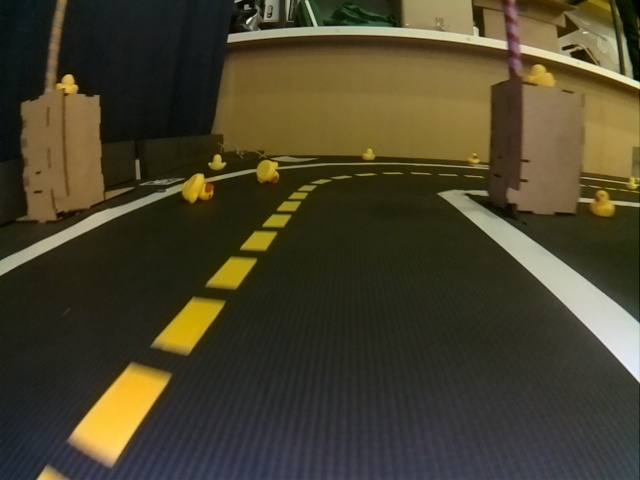Duckie: (183, 174, 213, 201), (527, 64, 554, 86), (591, 191, 614, 216), (257, 160, 279, 180), (57, 77, 78, 93), (210, 154, 226, 170), (362, 148, 375, 160), (467, 153, 480, 164), (626, 177, 636, 189)
QR code: (142, 178, 185, 187)
